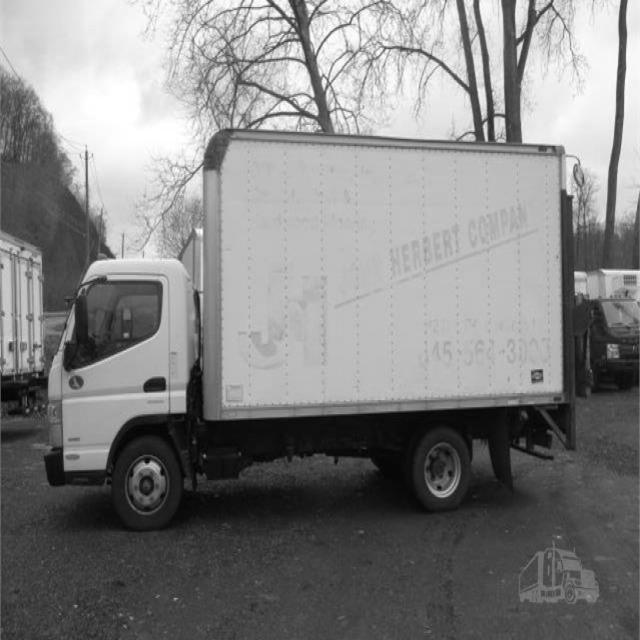truck: (32, 226, 226, 526)
